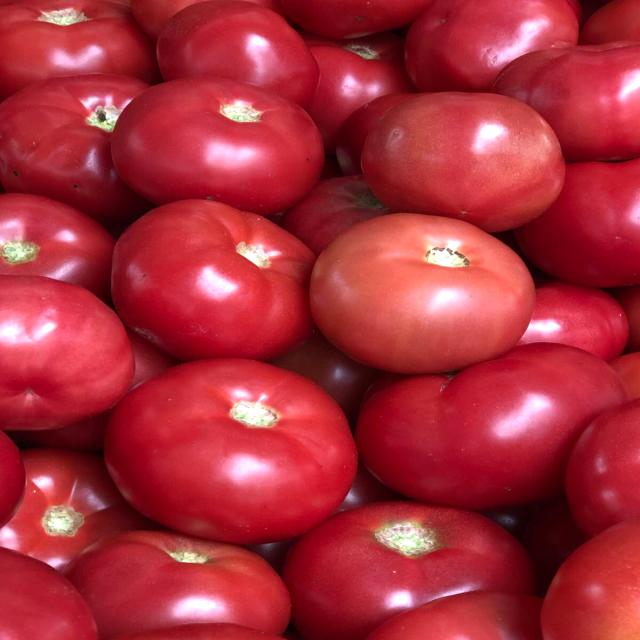tomato: (100, 355, 361, 543), (305, 206, 551, 379), (282, 492, 542, 640), (107, 198, 325, 361), (364, 88, 580, 232), (118, 70, 330, 213)
